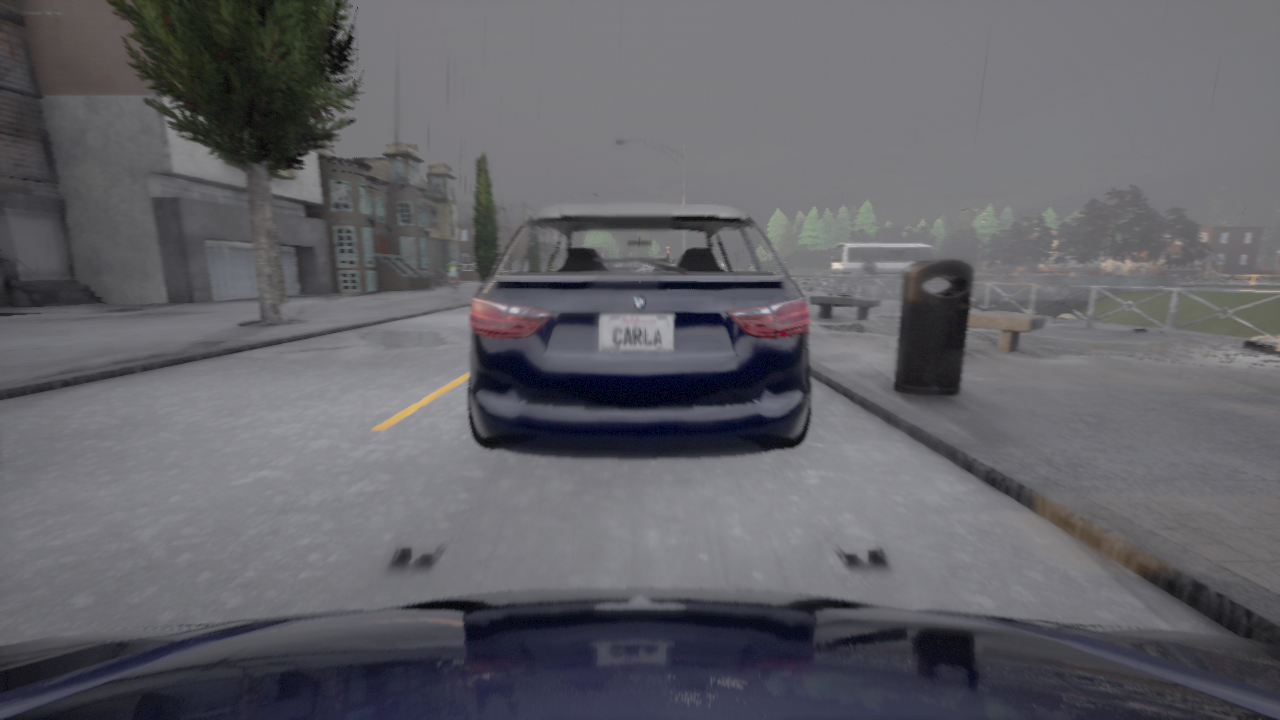cyclist: (0, 588, 1279, 719), (468, 204, 810, 457), (831, 243, 935, 275)
pedestrian: (446, 258, 460, 293)
